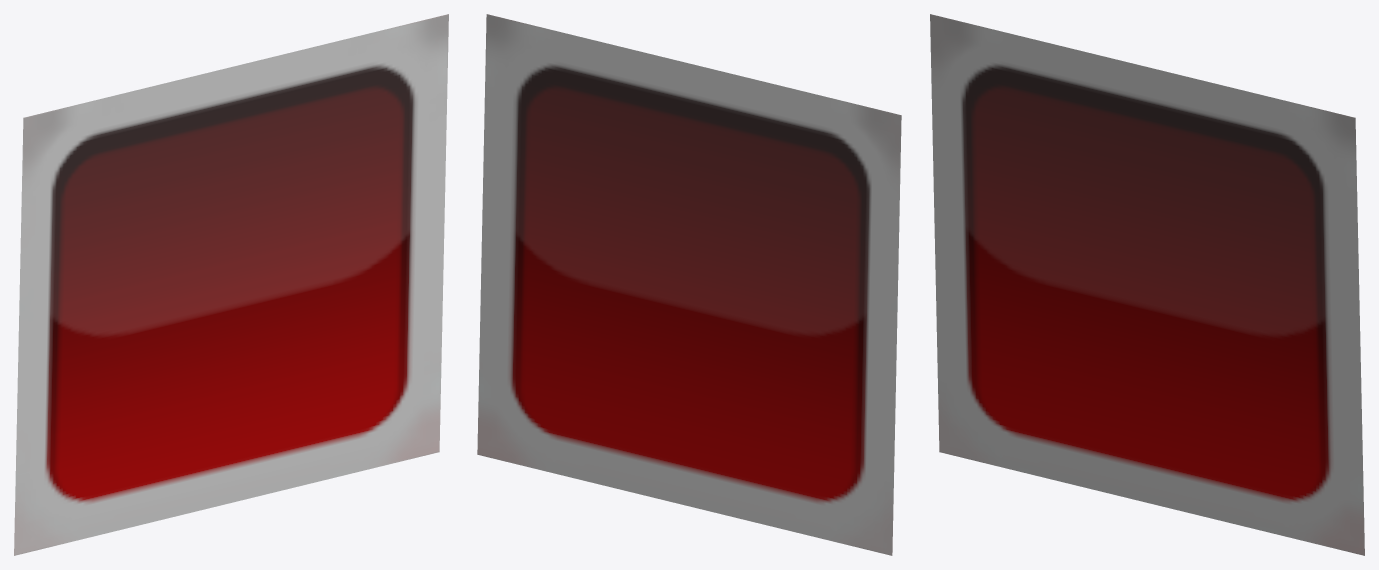
Rendered from Paint Slot.glb.
3 renders of one model, left to right at view 1: azimuth 30°, elevation 25°; view 2: azimuth 150°, elevation 25°; view 3: azimuth 330°, elevation 25°, orthographic. The views are drawn at different scales.
Visible parts, largest first — view 1: Swatch; view 2: Swatch; view 3: Swatch.
Part boxes in pixels (bbox=[...]): Swatch: bbox=[14, 14, 448, 555]; Swatch: bbox=[477, 14, 901, 555]; Swatch: bbox=[930, 14, 1364, 555].
Size of the model in its own units: 4.6 by 4.6 by 0.1761.
Materials: 1 (1 with a texture image).
